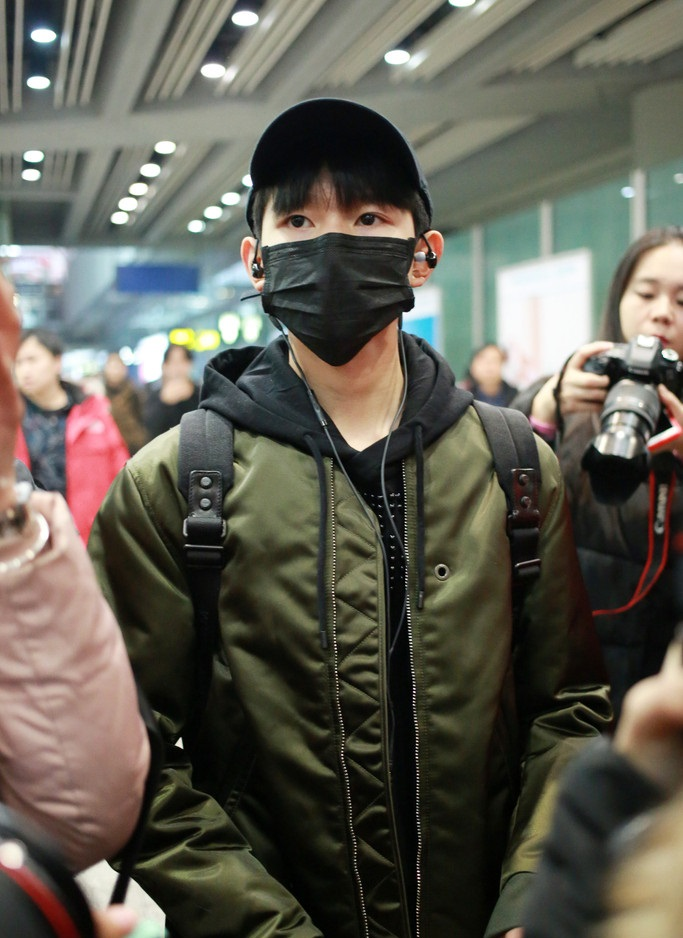face: (620, 250, 682, 372), (16, 339, 51, 393)
face_mask: (261, 143, 412, 362)
